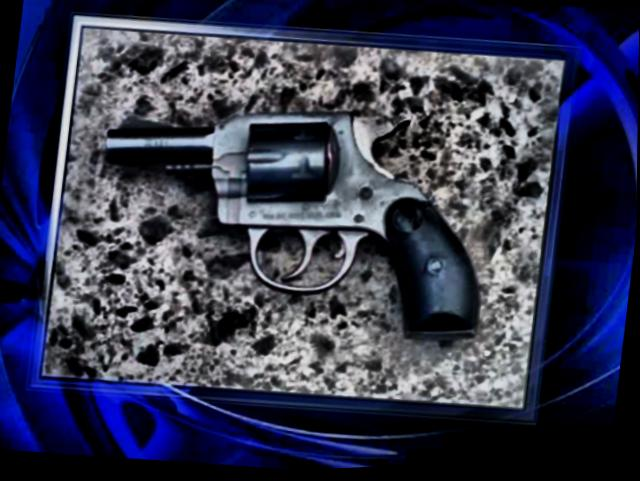pistol: (82, 80, 506, 355)
